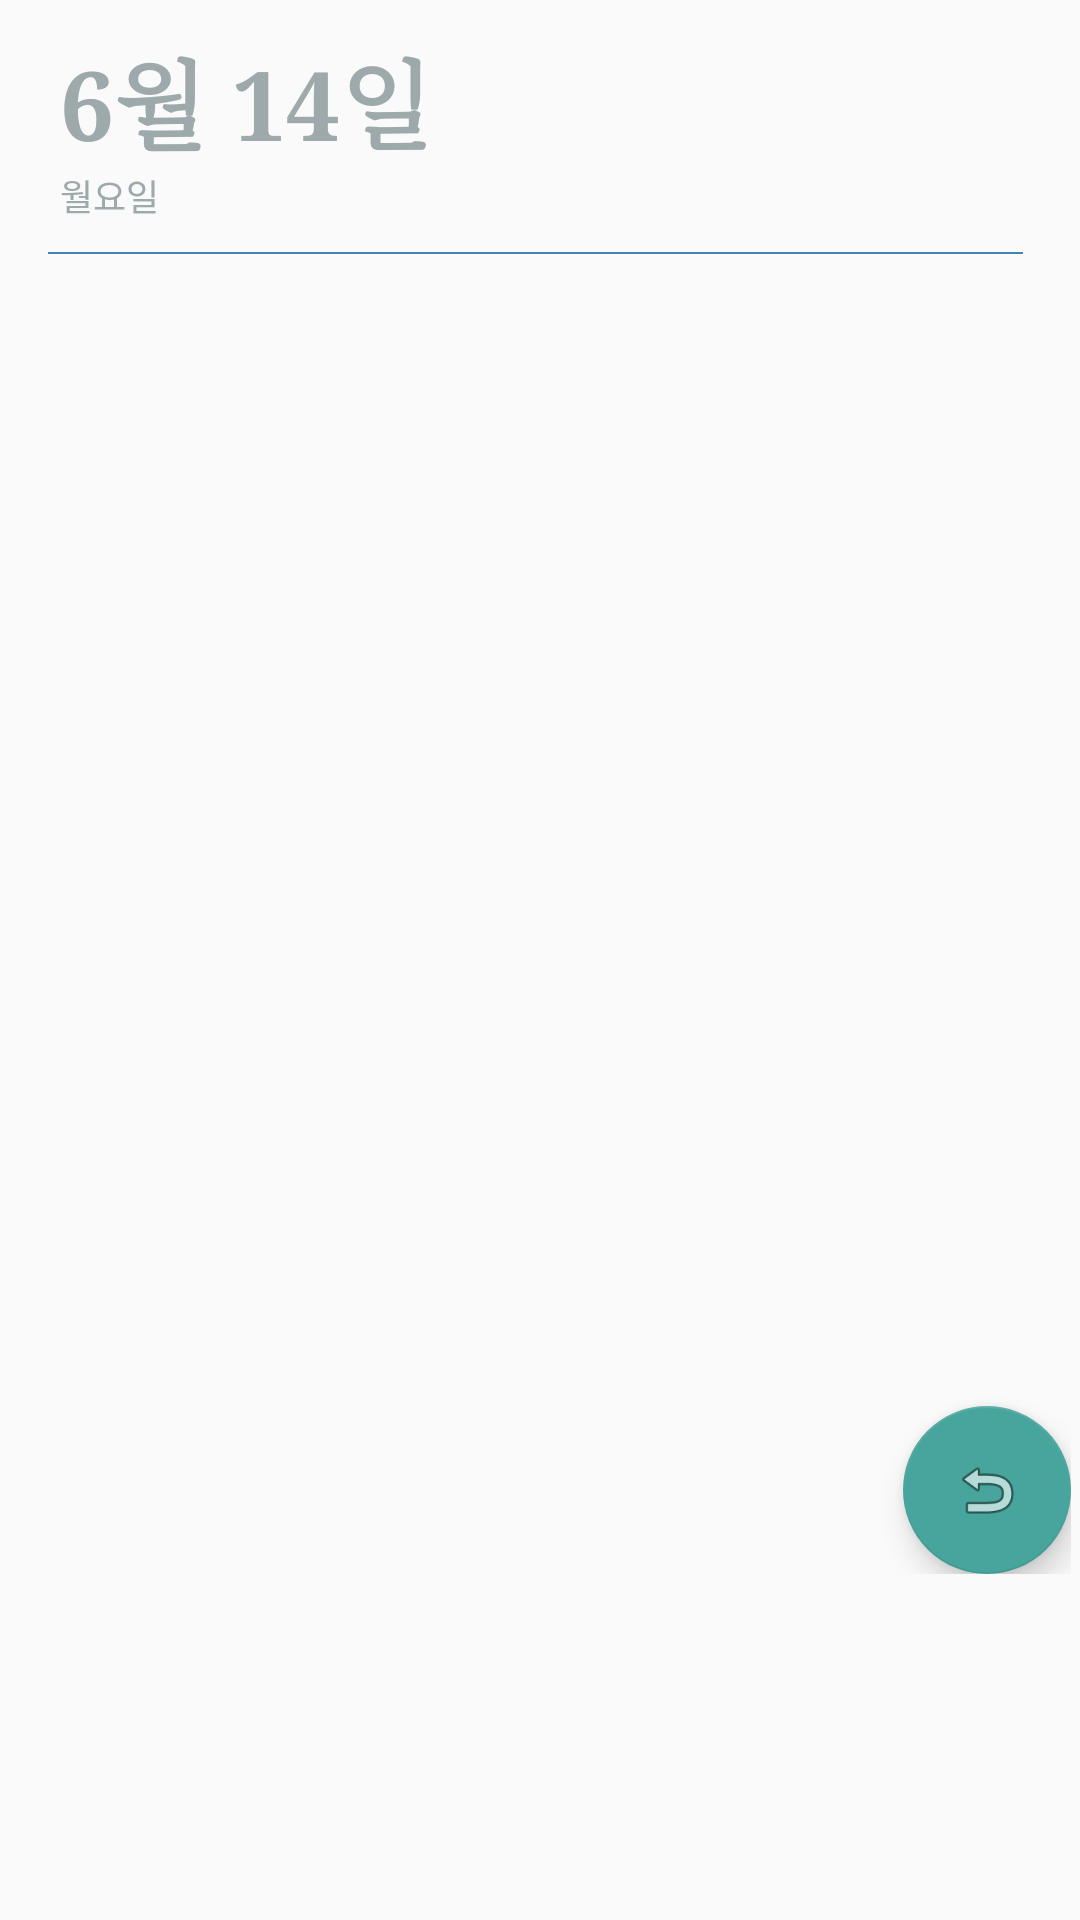

Locate icon controls on the screen. Image size 1080*1920, boxes as [left=x1, top=y1, right=x2, bottom=y2].
revert: [left=903, top=1406, right=1071, bottom=1574]
